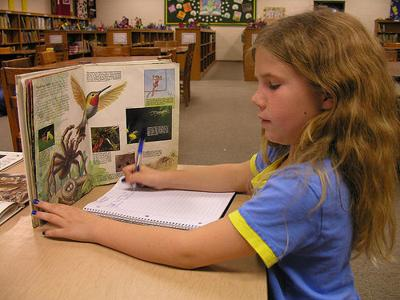person: (33, 10, 399, 298)
